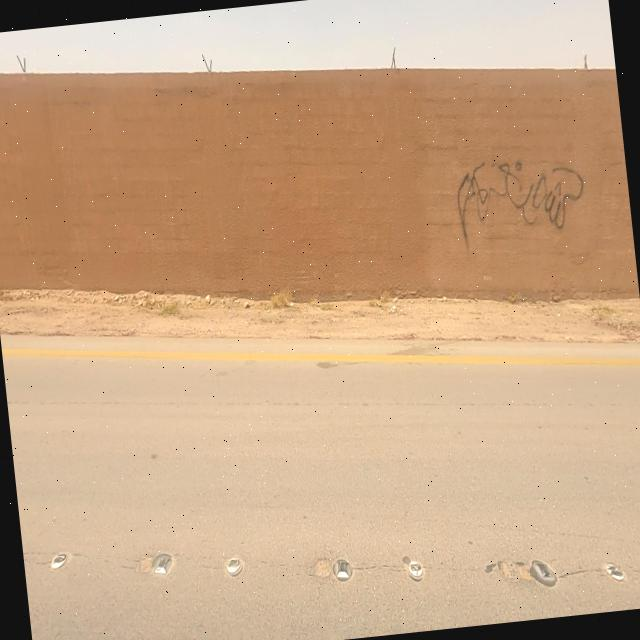Graffiti: (453, 151, 591, 245)
